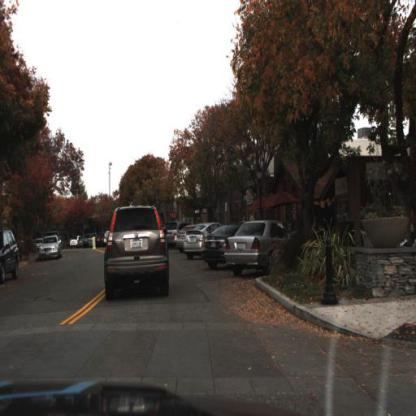car: (100, 201, 173, 301), (227, 224, 286, 275), (202, 227, 240, 269), (1, 228, 20, 289), (186, 224, 215, 260), (162, 221, 182, 253), (38, 233, 62, 259), (162, 221, 180, 248), (176, 226, 188, 253), (70, 236, 81, 249)
